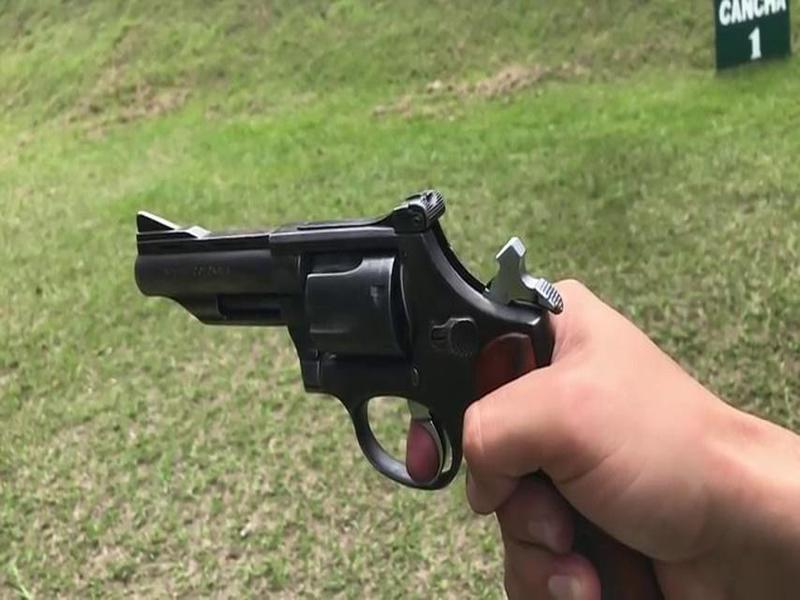Revolver: (113, 181, 567, 480)
